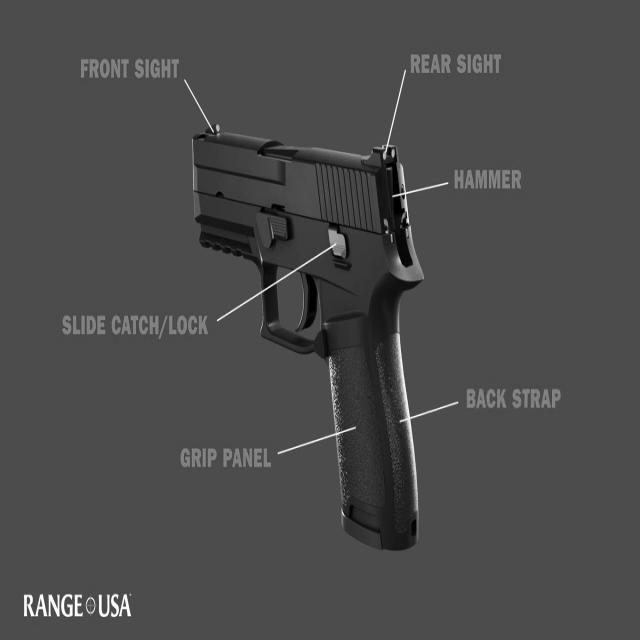Hand-Gun: (182, 117, 446, 557)
